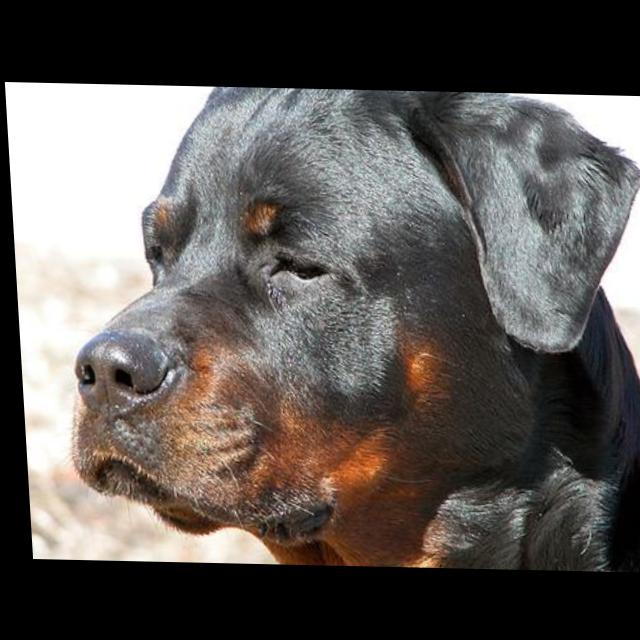rottweiler: (47, 83, 640, 571)
